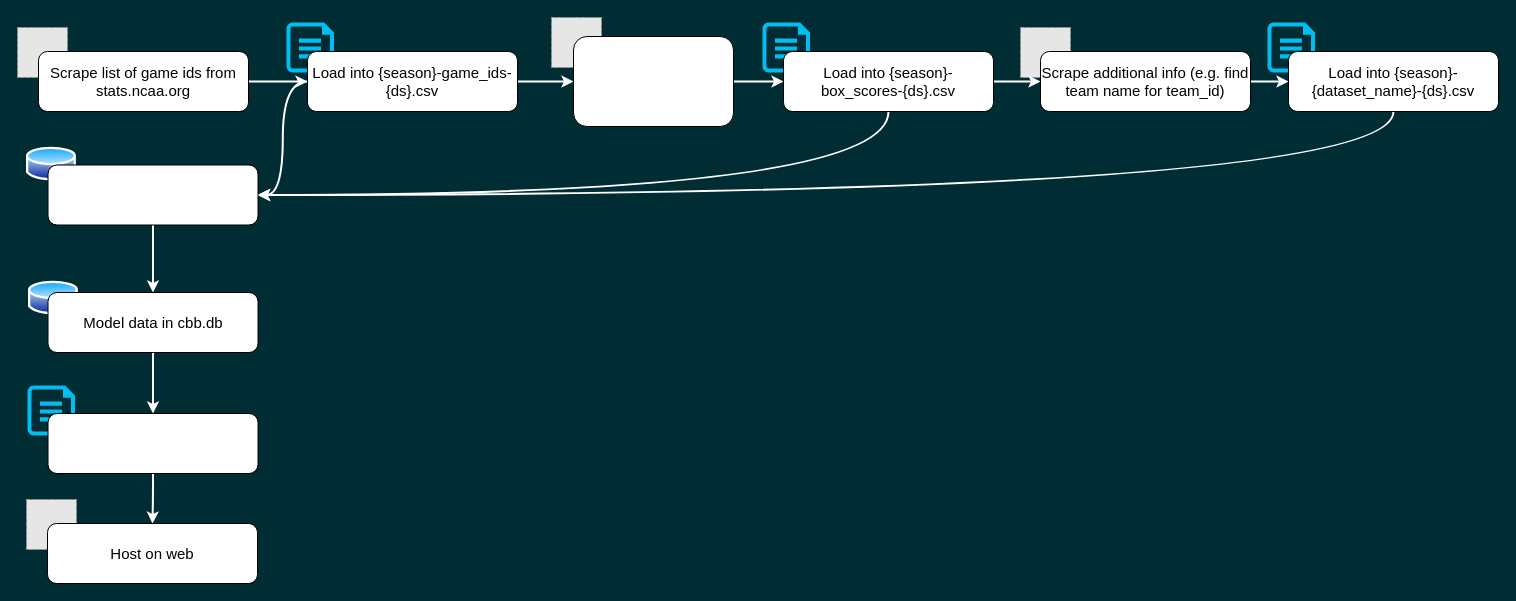
The diagram is 1516 pixels wide and 601 high, and some of its shapes have lost their labels. Grey dashed boxes stand in for pictures. The shapes that lost their labels are listed below. From the top down, each one's centre as x and y in pixels, then its label:
At (x=653, y=81): "Parse list of game ids to scrape individual game data from stats.ncaa.org".
At (x=152, y=194): "Load into cbb.db staging tables".
At (x=152, y=443): "Output modeled data to flat text file".
